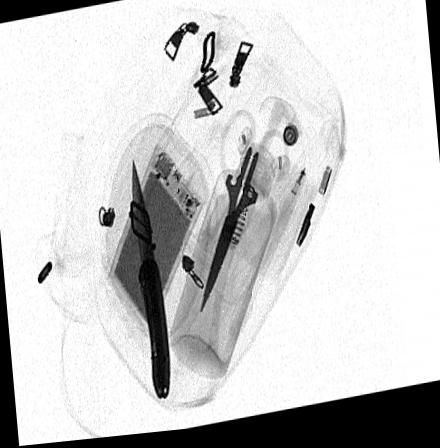Knife: (130, 156, 170, 403)
Powerbank: (106, 140, 208, 342)
Scissors: (200, 113, 291, 320)
